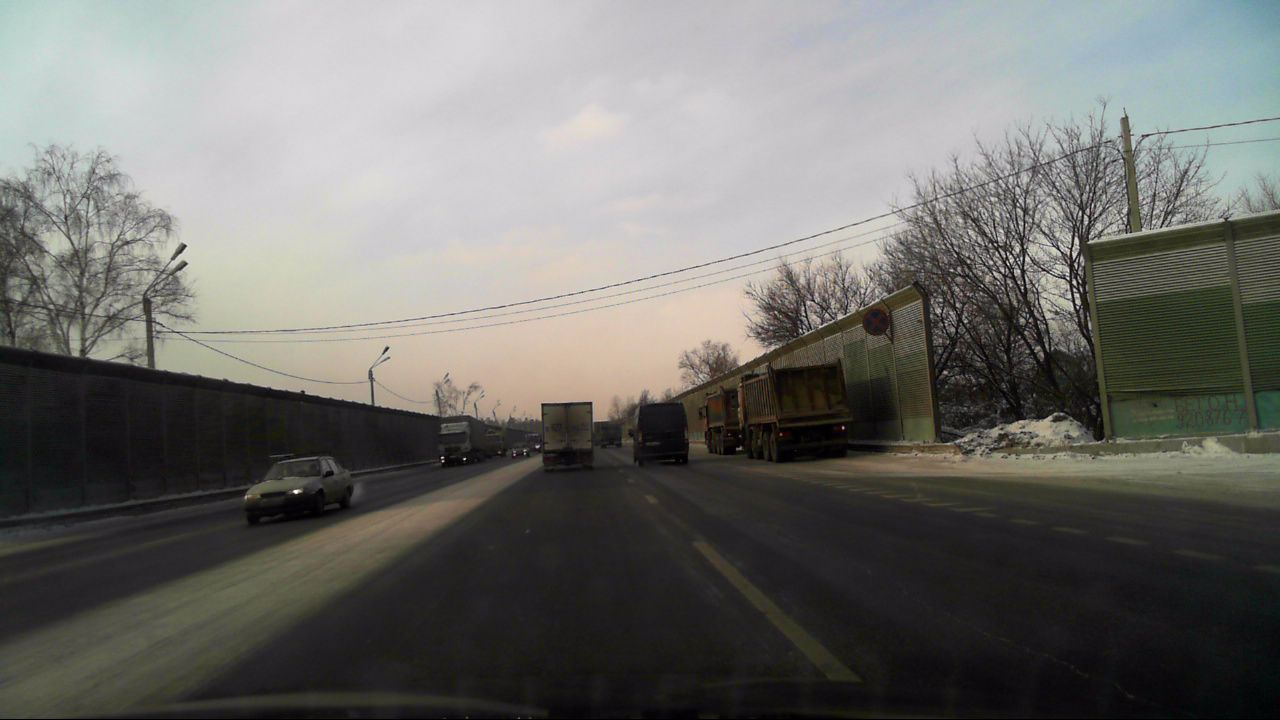No Parking: (861, 309, 889, 335)
